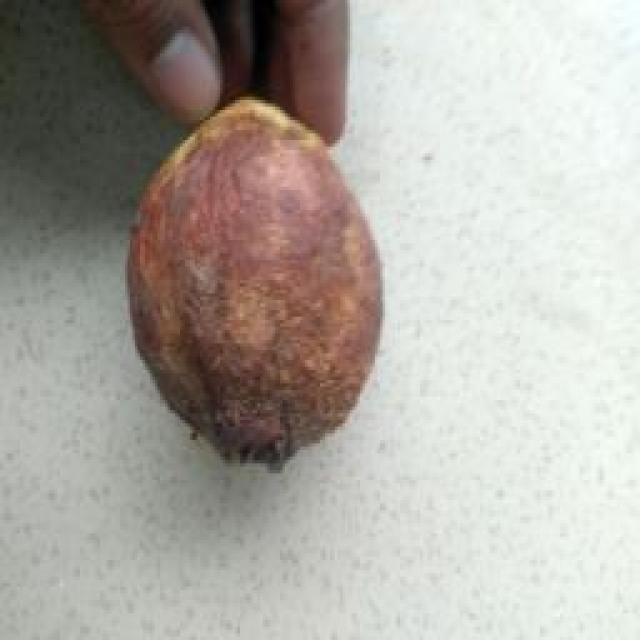Bad_Guava: (130, 98, 380, 468)
